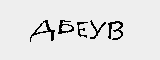Б: (56, 17, 74, 35)
В: (105, 19, 126, 43)
Д: (28, 19, 55, 44)
Е: (76, 19, 89, 40)
У: (89, 19, 105, 45)
